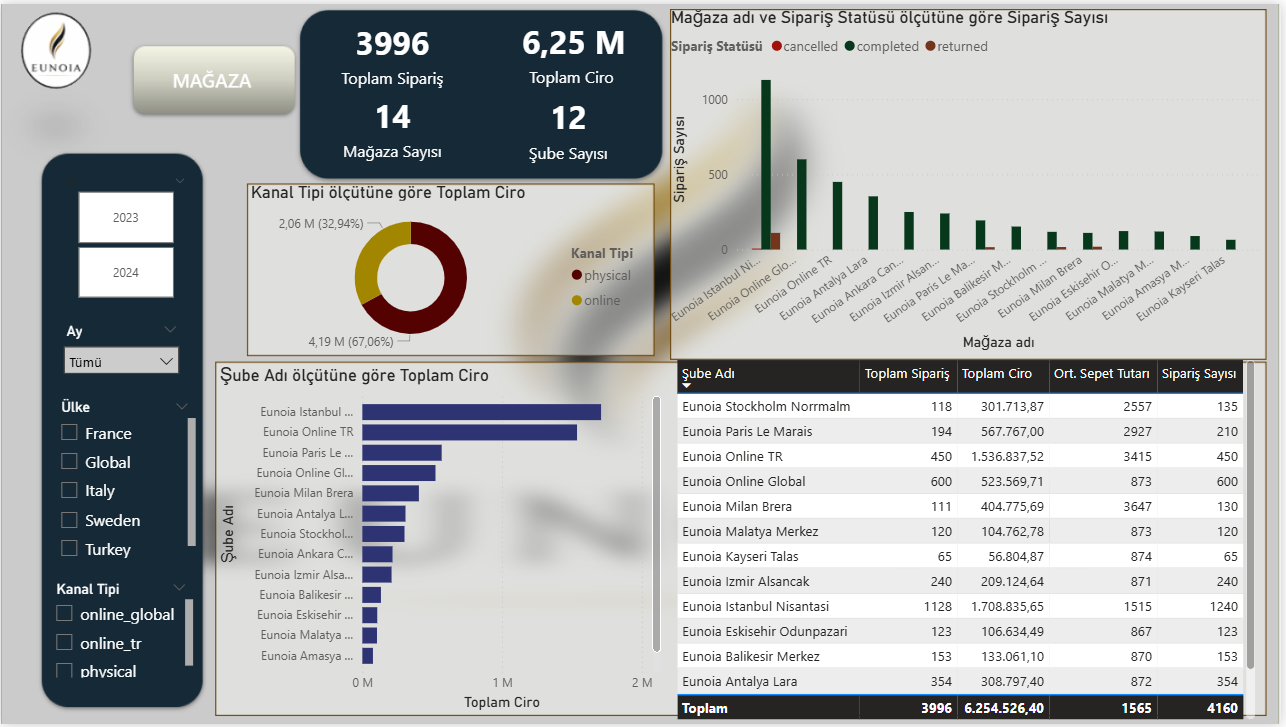

The page's visual inventory and layout, read from the dashboard file:
{"tool":"powerbi","page":{"name":"Mağaza","canvas":[1280,720],"ordinal":2},"visuals":[{"type":"card","fields":{"Values":["public brand_targets.Toplam Sipariş"]},"box":[309.5,8.3,163.1,82.1],"z":0},{"type":"card","fields":{"Values":["public brand_targets.Toplam Ciro (Tamamlanmış)"]},"box":[491.7,8.3,163.1,79.8],"z":1000},{"type":"card","fields":{"Values":["public brand_targets.Mağaza Sayısı"]},"box":[321.4,78.6,140.5,88.1],"z":2000},{"type":"card","fields":{"Values":["public brand_targets.Şube Sayısı"]},"box":[479.8,81,175,85.7],"z":3000},{"type":"slicer","fields":{"Values":["public orders.order_date.Varyasyon.Tarih Hiyerarşisi.Yıl"]},"box":[51.2,166.7,145.2,134.5],"z":4000},{"type":"slicer","fields":{"Values":["public orders.order_date.Varyasyon.Tarih Hiyerarşisi.Ay"]},"box":[52.4,314.3,135.7,89.3],"z":5000},{"type":"slicer","fields":{"Values":["public stores.country"]},"box":[47.6,390.5,152.4,169],"z":6000},{"type":"slicer","fields":{"Values":["public stores.store_type"]},"box":[42.9,571.4,154.8,107.1],"z":7000},{"type":"donutChart","fields":{"Category":["public stores.store_channel"],"Y":["public brand_targets.Toplam Ciro (Tamamlanmış)"]},"box":[245,177.5,410,173.8],"z":8000},{"type":"tableEx","fields":{"Values":["public stores.store_name","public brand_targets.Toplam Sipariş","public brand_targets.Toplam Ciro (Tamamlanmış)","public brand_targets.Ortalama Sepet","public brand_targets.Sipariş Sayısı"]},"box":[670.2,351.2,589.3,369],"z":9000},{"type":"clusteredBarChart","fields":{"Category":["public stores.store_name"],"Y":["public brand_targets.Toplam Ciro (Tamamlanmış)"]},"box":[214.3,359.5,451.2,351.2],"z":10000},{"type":"clusteredColumnChart","fields":{"Category":["public stores.store_name"],"Y":["public brand_targets.Sipariş Sayısı"],"Series":["public orders.order_status"]},"box":[665.5,2.4,598.8,348.8],"z":11000}]}

Visuals, with their boxes in screenshot pixels (x1, y1, x2, y2), scaled from the page's 1280x720 canvas onto the 1286x727 screenshot:
card - public brand_targets.Toplam Sipariş: BBox(311, 8, 475, 91)
card - public brand_targets.Toplam Ciro (Tamamlanmış): BBox(494, 8, 658, 89)
card - public brand_targets.Mağaza Sayısı: BBox(323, 79, 464, 168)
card - public brand_targets.Şube Sayısı: BBox(482, 82, 658, 168)
slicer - public orders.order_date.Varyasyon.Tarih Hiyerarşisi.Yıl: BBox(51, 168, 197, 304)
slicer - public orders.order_date.Varyasyon.Tarih Hiyerarşisi.Ay: BBox(53, 317, 189, 408)
slicer - public stores.country: BBox(48, 394, 201, 565)
slicer - public stores.store_type: BBox(43, 577, 199, 685)
donutChart - public stores.store_channel x public brand_targets.Toplam Ciro (Tamamlanmış): BBox(246, 179, 658, 355)
tableEx - public stores.store_name x public brand_targets.Toplam Sipariş: BBox(673, 355, 1265, 726)
clusteredBarChart - public stores.store_name x public brand_targets.Toplam Ciro (Tamamlanmış): BBox(215, 363, 669, 718)
clusteredColumnChart - public stores.store_name x public brand_targets.Sipariş Sayısı: BBox(669, 2, 1270, 355)
